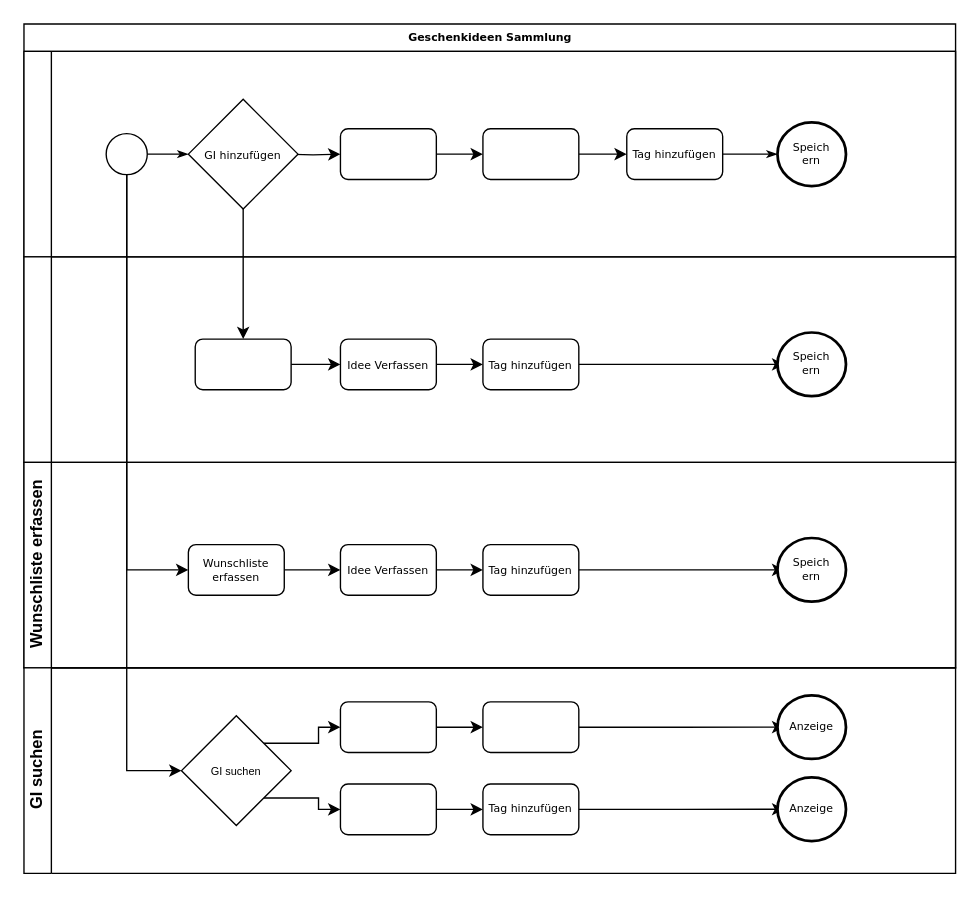
This 980x897 diagram has some shape labels left out. The shapes that lost their labels are listed below. From the top down, each one's box as (x1, y1, x2, y2) in pixels, then its label:
(105, 132, 147, 175): Web App
(339, 127, 436, 179): Person suchen
(23, 50, 956, 257): GI zu Person
(482, 127, 579, 179): GI notieren
(194, 338, 291, 390): Allgemeine Idee
(23, 256, 956, 462): GI allgemein
(339, 700, 436, 753): Person
(482, 700, 579, 753): eigene und Wunschliste
(339, 783, 436, 835): Allgemein mit Tag
